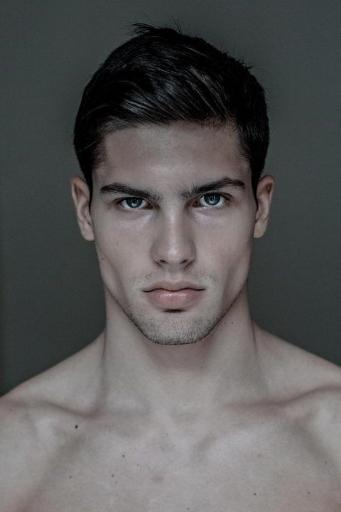left_eye: (190, 190, 239, 213)
left_lip_corner: (196, 284, 214, 301)
right_eye: (110, 194, 157, 215)
right_lip_corner: (137, 284, 154, 302)
